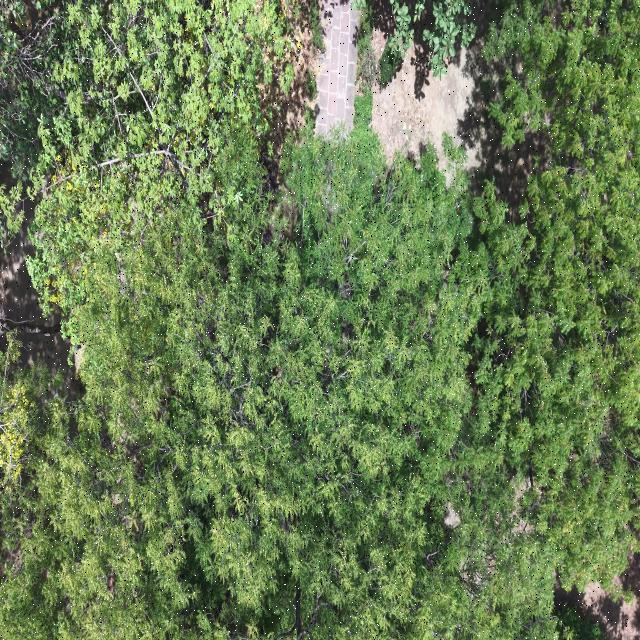DRY_AREA: (371, 0, 543, 214), (371, 14, 545, 219), (371, 15, 543, 213), (371, 24, 544, 220), (371, 34, 545, 219), (258, 0, 357, 186), (371, 4, 480, 172), (259, 0, 357, 185), (260, 0, 357, 184), (0, 199, 81, 399), (0, 199, 80, 398), (371, 44, 478, 168), (0, 203, 67, 373), (258, 0, 316, 188), (554, 553, 639, 639), (555, 553, 639, 639), (582, 583, 639, 639)
PATHWAYS: (315, 0, 357, 134)
VEGETATION_TREE: (0, 0, 639, 639), (1, 131, 547, 638), (0, 0, 302, 320), (476, 0, 639, 589), (0, 0, 299, 191), (422, 0, 474, 79), (356, 4, 379, 92), (556, 604, 603, 639)
